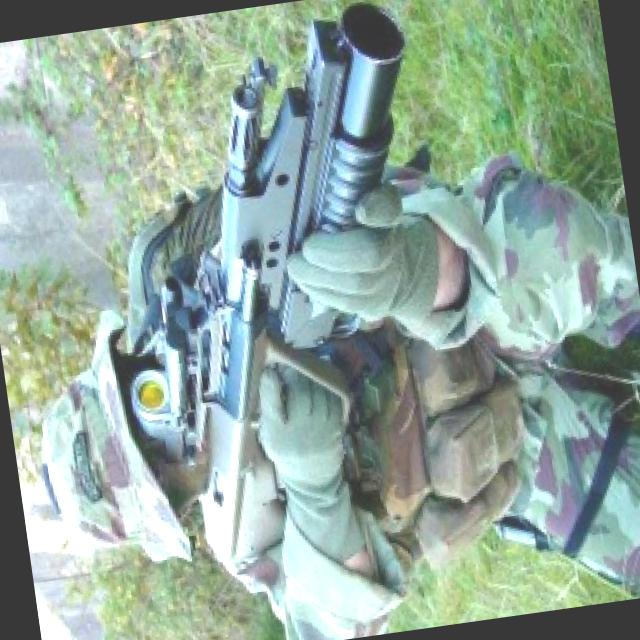long weapon: (128, 24, 484, 609)
